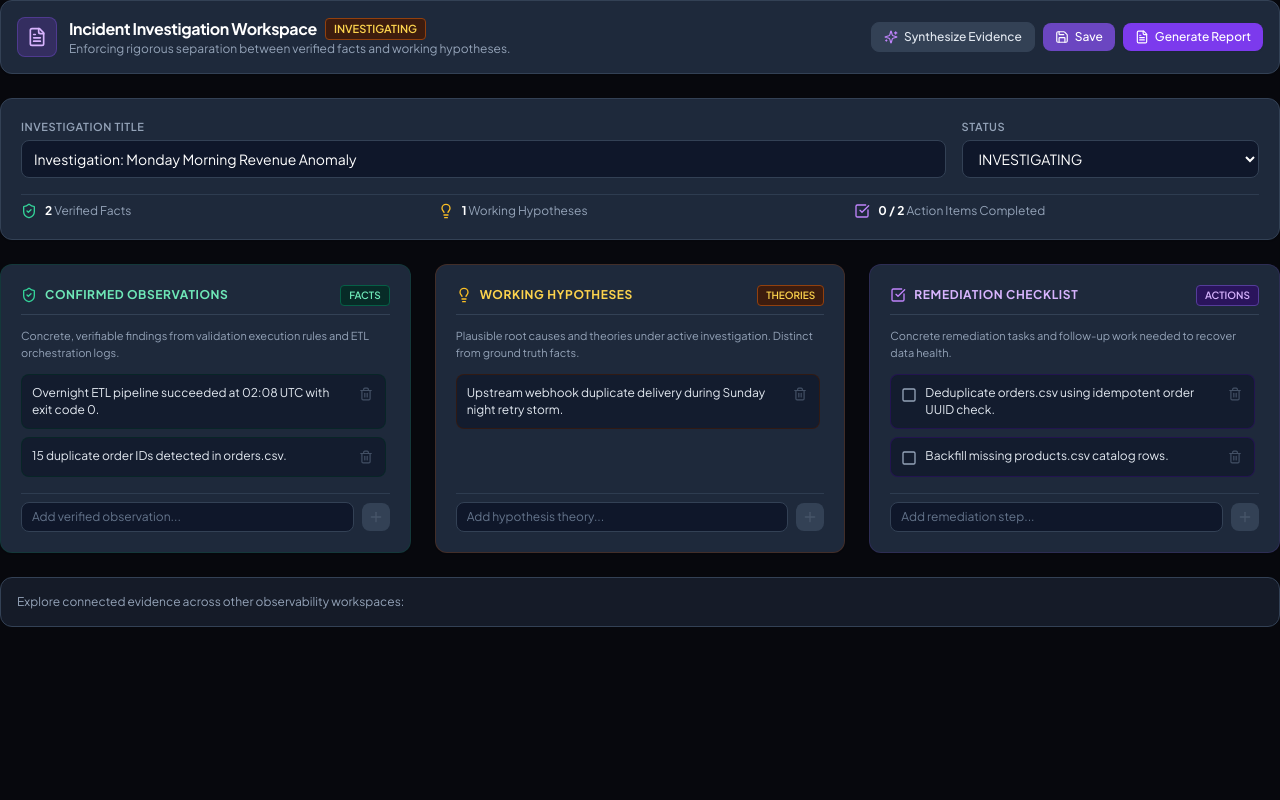
InvestigationWorkspace Component › opens ReportModal when Generate Report is clicked
Expected: the field showing "Investigation: Monday Morning Revenue Anomaly" is shown, [21,140,946,178]
Step 1. Click the button with test id "open-report-modal-btn" → (1193, 37), box [1123,23,1263,51]
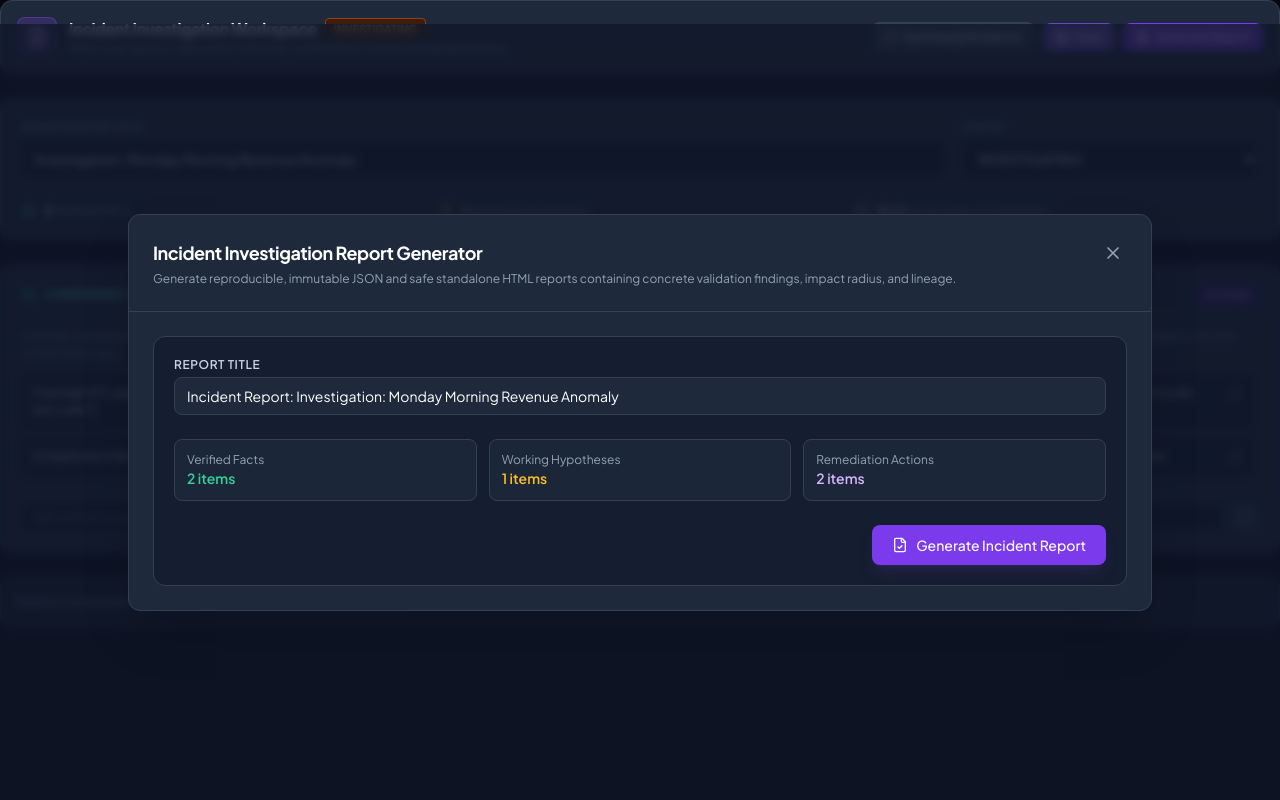
Result: the dialog is shown
Result: the heading "Incident Investigation Report Generator" is shown at [153,240,482,264]
